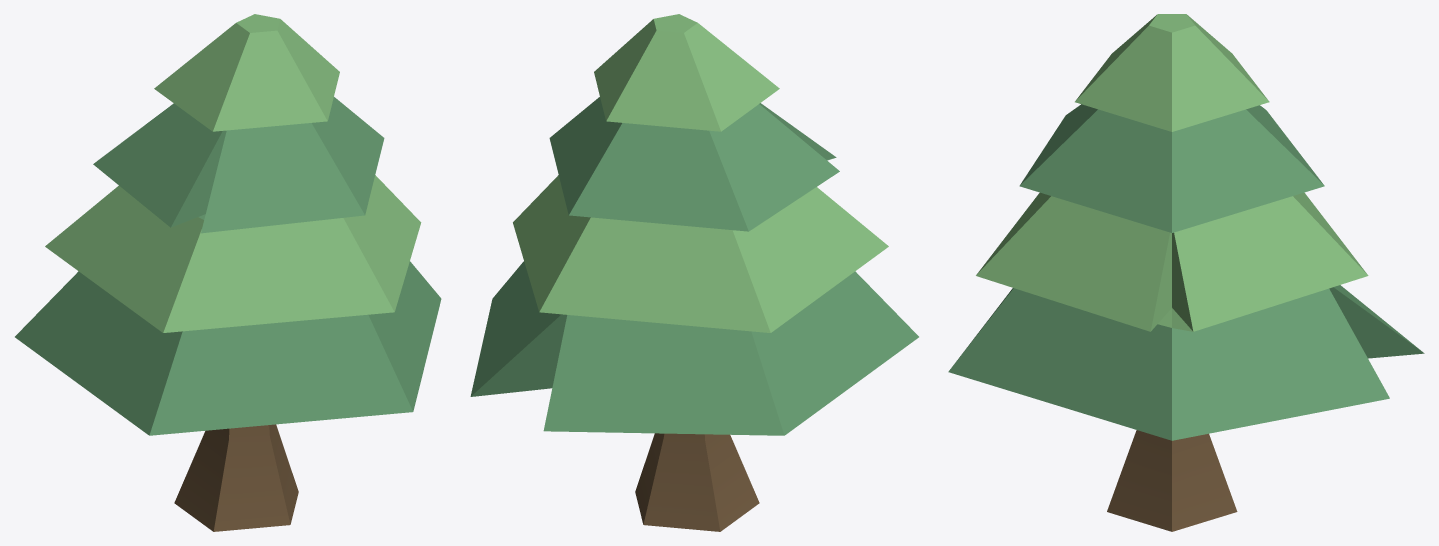
The model's file is bush_4.fbx.
3 renders of one model, left to right at view 1: azimuth 30°, elevation 25°; view 2: azimuth 150°, elevation 25°; view 3: azimuth 270°, elevation 25°, orthographic. The views are drawn at different scales.
Parts seen in each view (by area): view 1: bush_4; view 2: bush_4; view 3: bush_4.
Boxes of the visible parts, <box> form: bush_4: <box>15,14,441,531</box>; bush_4: <box>470,14,918,531</box>; bush_4: <box>948,14,1424,531</box>.
Size of the model in its own units: 38.54 by 48.92 by 43.12.
